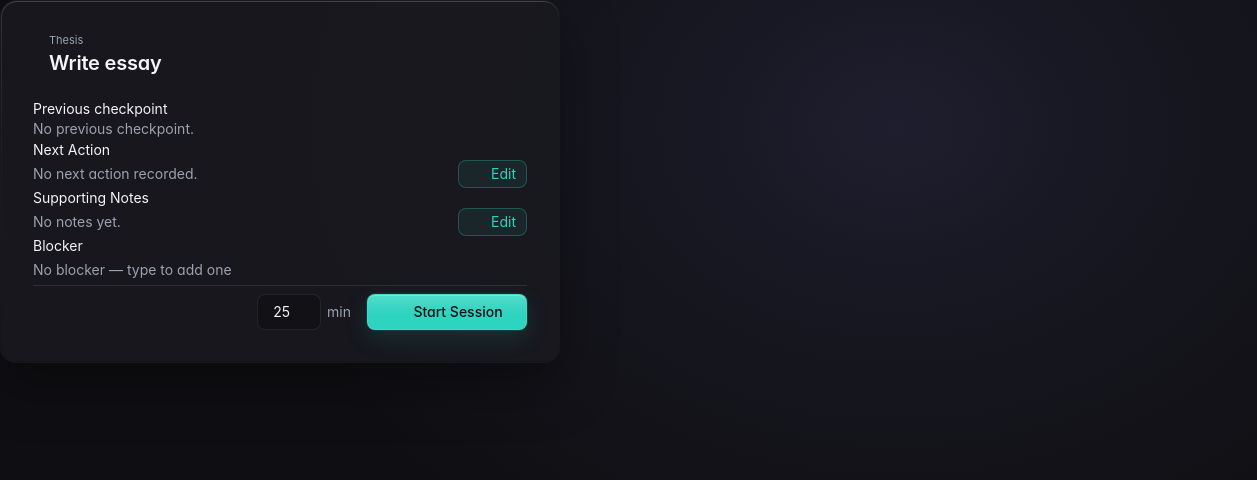
it: ResumePacketView › Edit Notes button shows textarea
Click the button "Edit" in the row of "No notes yet.": (492, 222) [458,208,527,236]
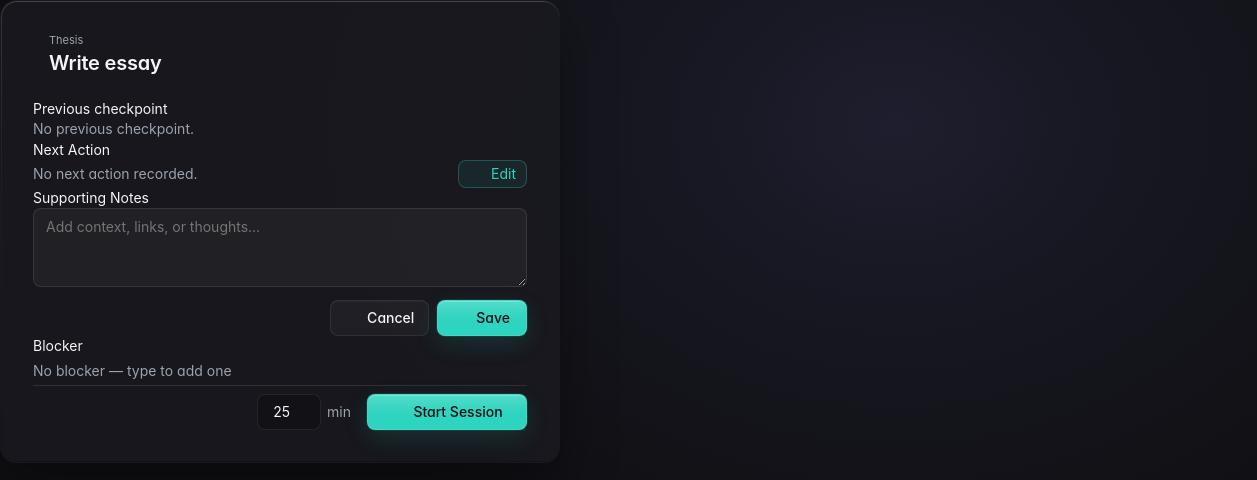
Check: the text box with placeholder "Add context, links, or thoughts…" is shown, box [33,208,527,287]
